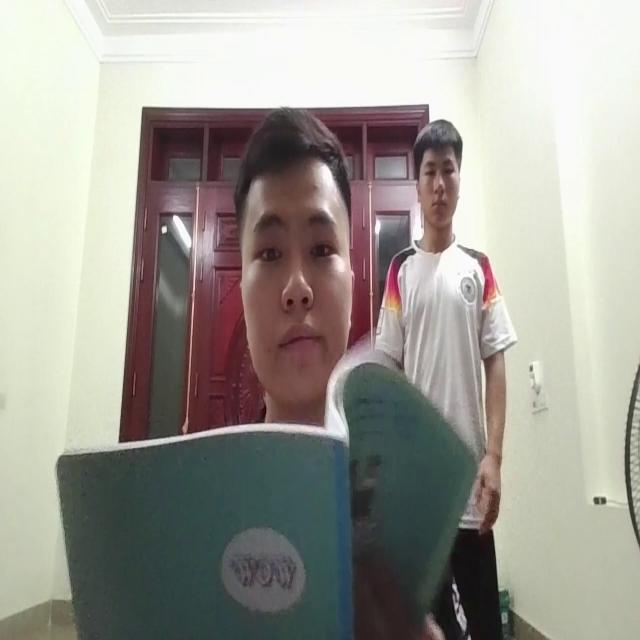book: (53, 395, 422, 640)
extra_person: (388, 124, 502, 529)
student: (238, 99, 359, 415)
